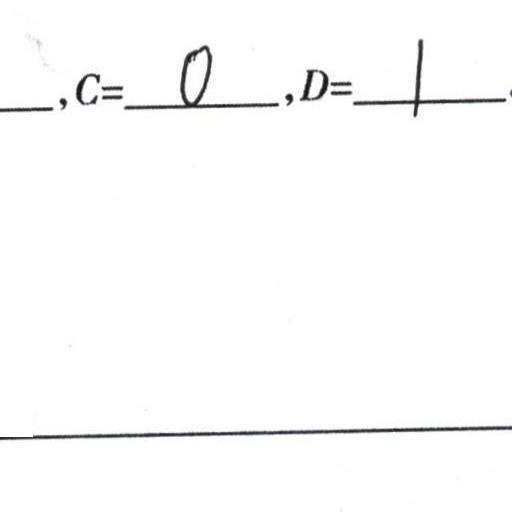ans: (178, 43, 215, 107), (407, 33, 431, 117)
